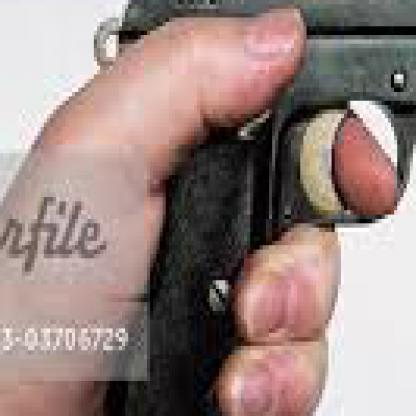gun: (75, 0, 413, 412)
